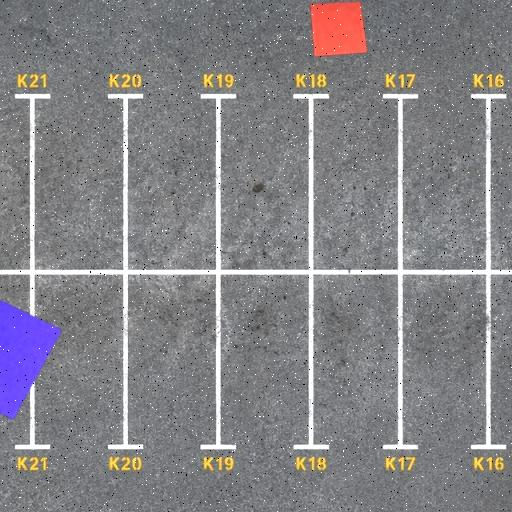BLUE_SQUARE: (0, 287, 63, 421)
RED_SQUARE: (310, 0, 368, 58)
